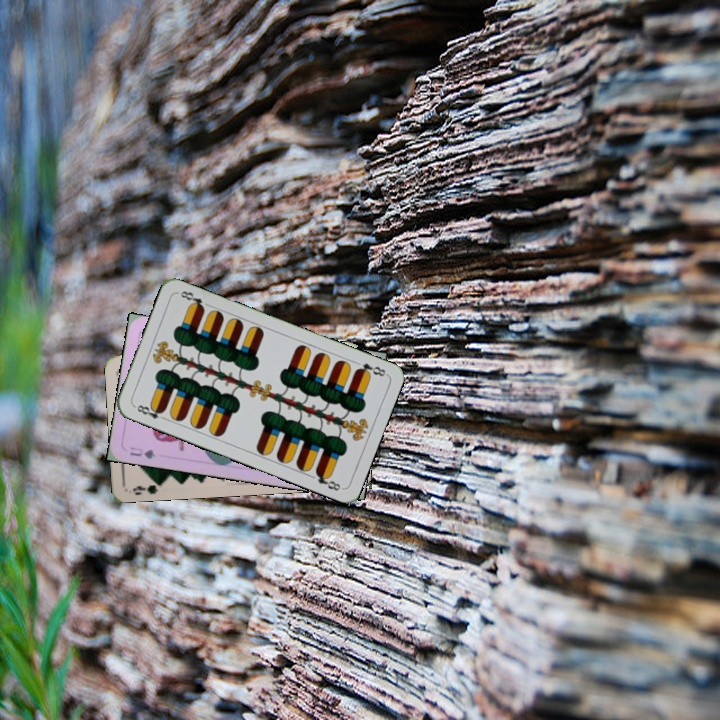E8: (130, 401, 169, 423), (352, 359, 389, 379)
G9: (129, 477, 166, 497)
GU: (126, 443, 158, 461)
